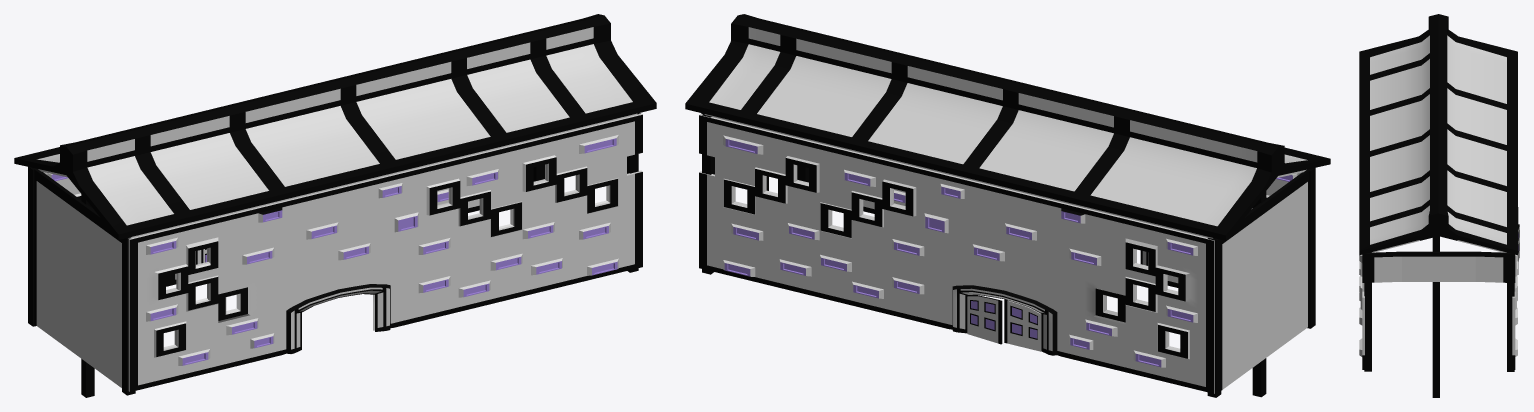
The model's file is sleepingQters.fbx.
3 renders of one model, left to right at view 1: azimuth 30°, elevation 25°; view 2: azimuth 150°, elevation 25°; view 3: azimuth 270°, elevation 25°, orthographic. The views are drawn at different scales.
Parts seen in each view (by area): view 1: SleepingQPillars; view 2: SleepingQPillars; view 3: SleepingQPillars.
Boxes of the visible parts, x1=… form: SleepingQPillars: x1=14, y1=14, x2=656, y2=397; SleepingQPillars: x1=685, y1=14, x2=1330, y2=397; SleepingQPillars: x1=1359, y1=14, x2=1519, y2=397.
Bounding box in the file's own units: 23640 × 10581 × 8042.
